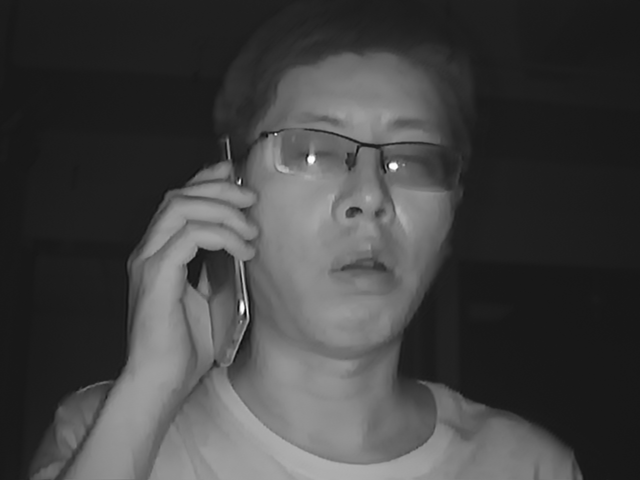hand: (102, 161, 262, 383)
